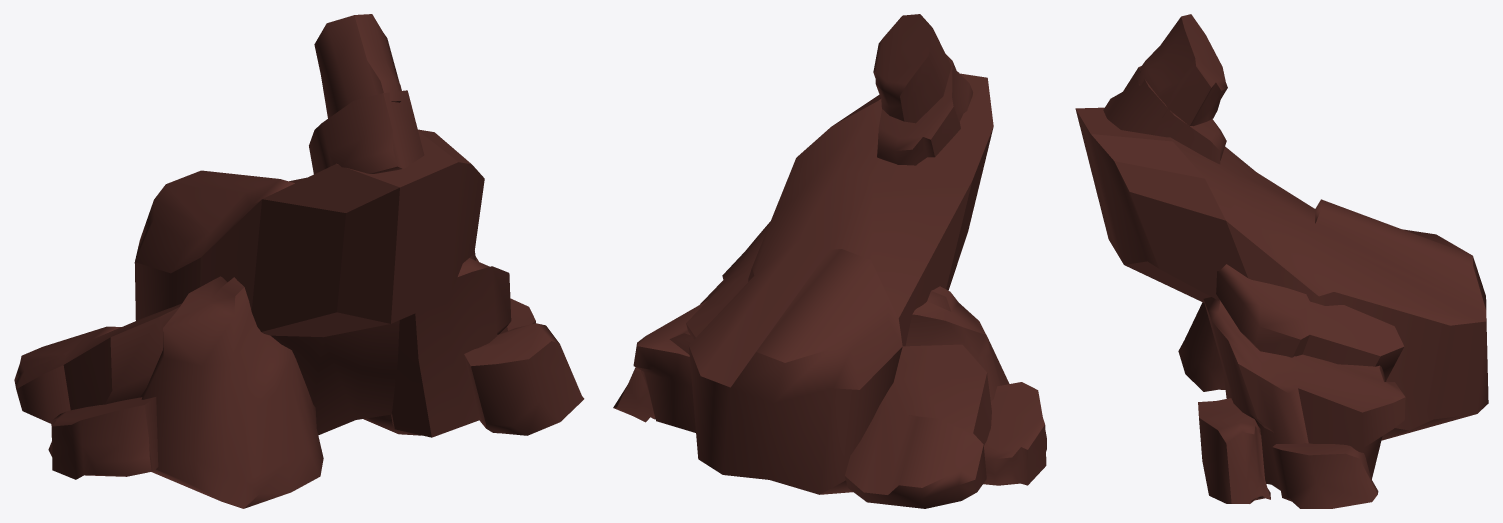
Rendered from SM_big_rock_complex_E.fbx.
The picture shows the model from 3 angles, left to right: view 1: azimuth 30°, elevation 25°; view 2: azimuth 150°, elevation 25°; view 3: azimuth 270°, elevation 25°; orthographic projection. The views are drawn at different scales.
Visible parts, largest first — view 1: polySurface52; view 2: polySurface52; view 3: polySurface52.
Boxes of the visible parts, x1=… form: polySurface52: x1=14, y1=14, x2=584, y2=508; polySurface52: x1=613, y1=14, x2=1046, y2=508; polySurface52: x1=1075, y1=14, x2=1488, y2=508.
Bounding box in the file's own units: 1371 × 1322 × 1222.
